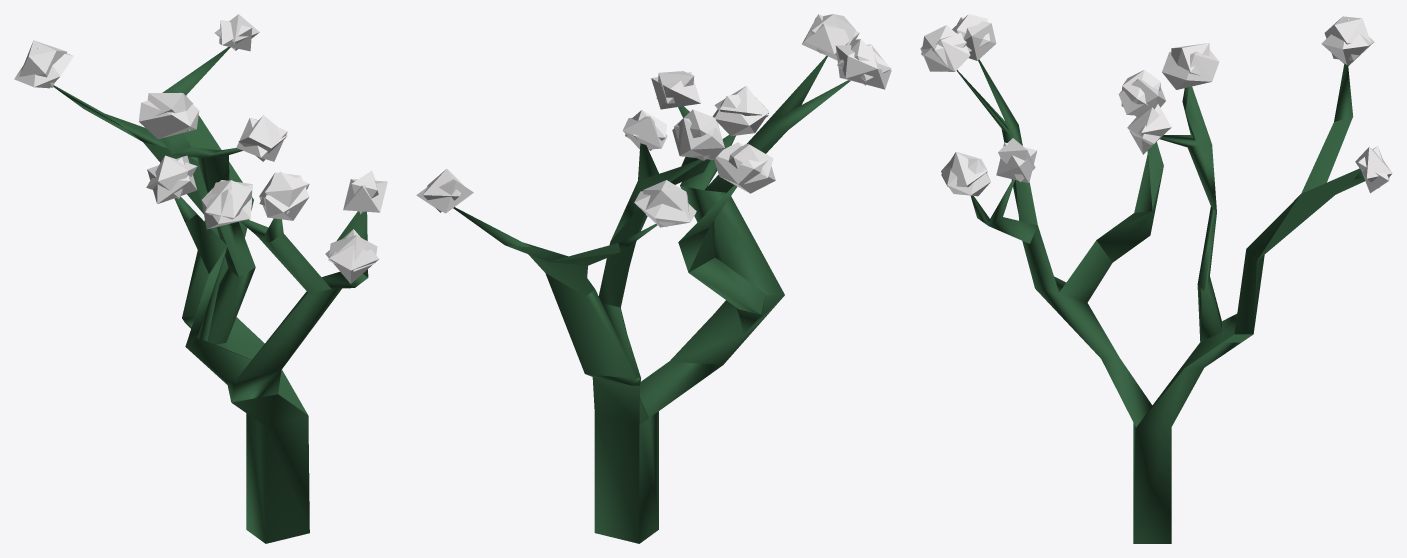
File: opt_babysbreath.fbx
The picture shows the model from 3 angles, left to right: view 1: azimuth 30°, elevation 25°; view 2: azimuth 150°, elevation 25°; view 3: azimuth 270°, elevation 25°; orthographic projection.
Parts seen in each view (by area): view 1: Baby'sBreathHead.003; view 2: Baby'sBreathHead.003; view 3: Baby'sBreathHead.003.
Boxes of the visible parts, x1,y1,x2,y2 form: Baby'sBreathHead.003: (14,14,387,543); Baby'sBreathHead.003: (416,14,891,543); Baby'sBreathHead.003: (920,14,1392,543).
Bounding box in the file's own units: 410 × 702 × 655.
